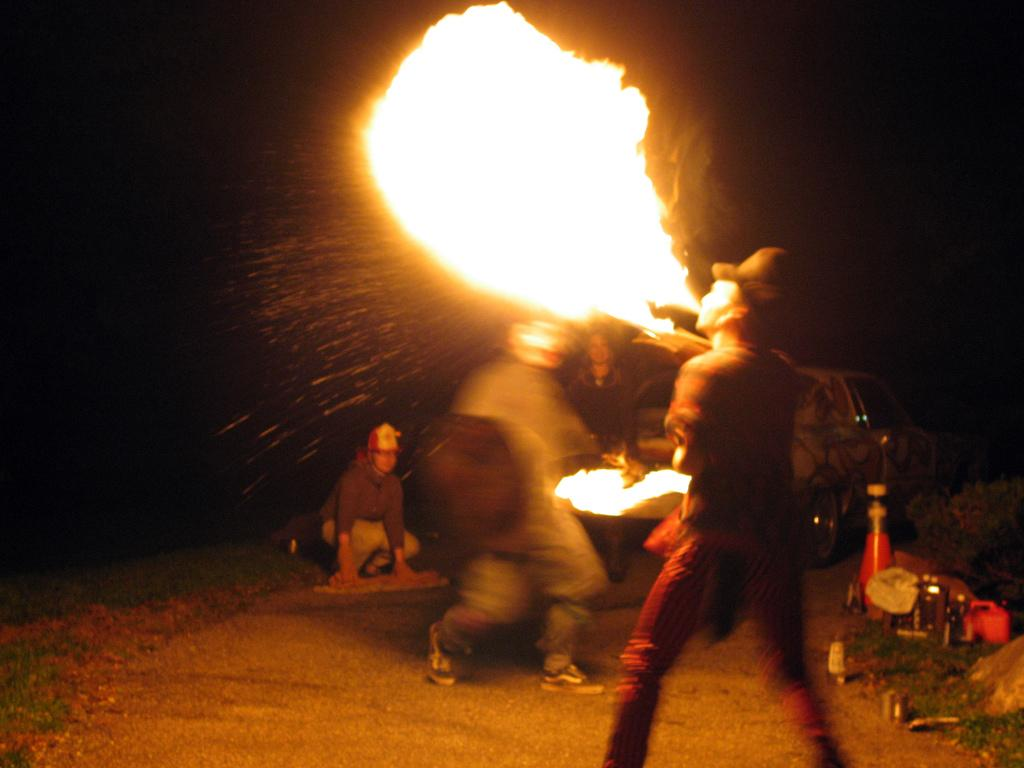fire: (402, 16, 684, 312), (556, 470, 680, 510)
